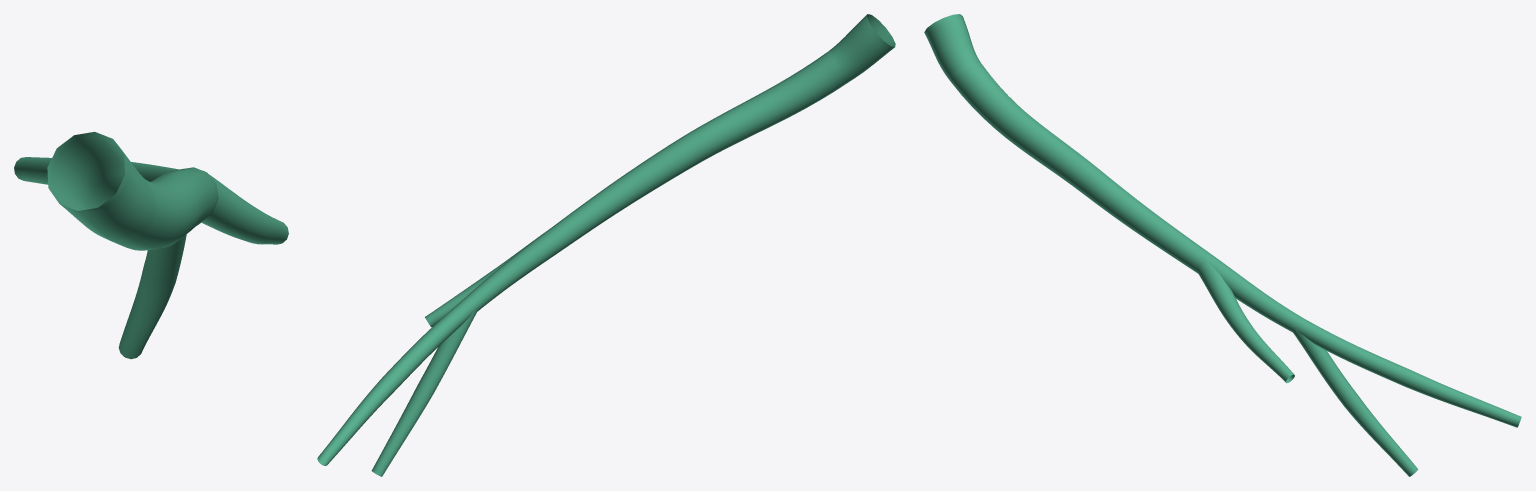
3 views of the same model, side by side, from view 1: azimuth 30°, elevation 25°; view 2: azimuth 150°, elevation 25°; view 3: azimuth 270°, elevation 25° (orthographic). The views are drawn at different scales.
Visible parts, largest first — view 1: 左肺前内侧底段支气管; view 2: 左肺前内侧底段支气管; view 3: 左肺前内侧底段支气管.
Boxes of the visible parts, <box> form: 左肺前内侧底段支气管: <box>14,131,288,359</box>; 左肺前内侧底段支气管: <box>317,14,895,476</box>; 左肺前内侧底段支气管: <box>924,14,1521,476</box>.
Size of the model in its own units: 0.0811 by 0.092 by 0.146.
